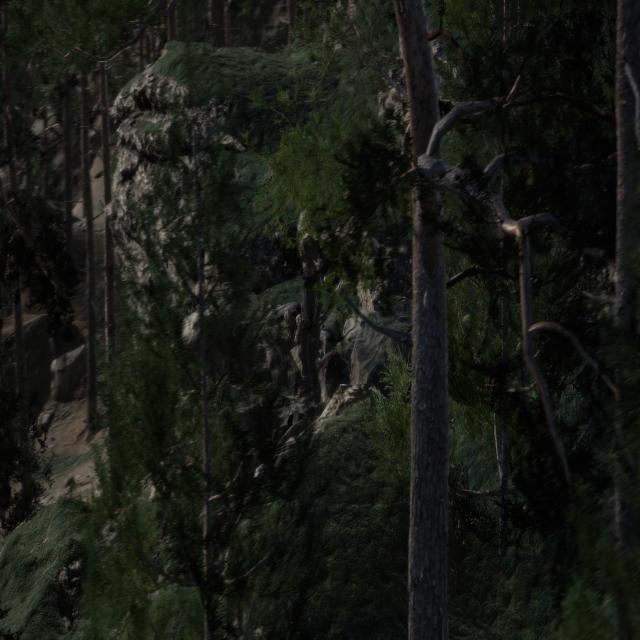Human: (292, 211, 330, 426)
